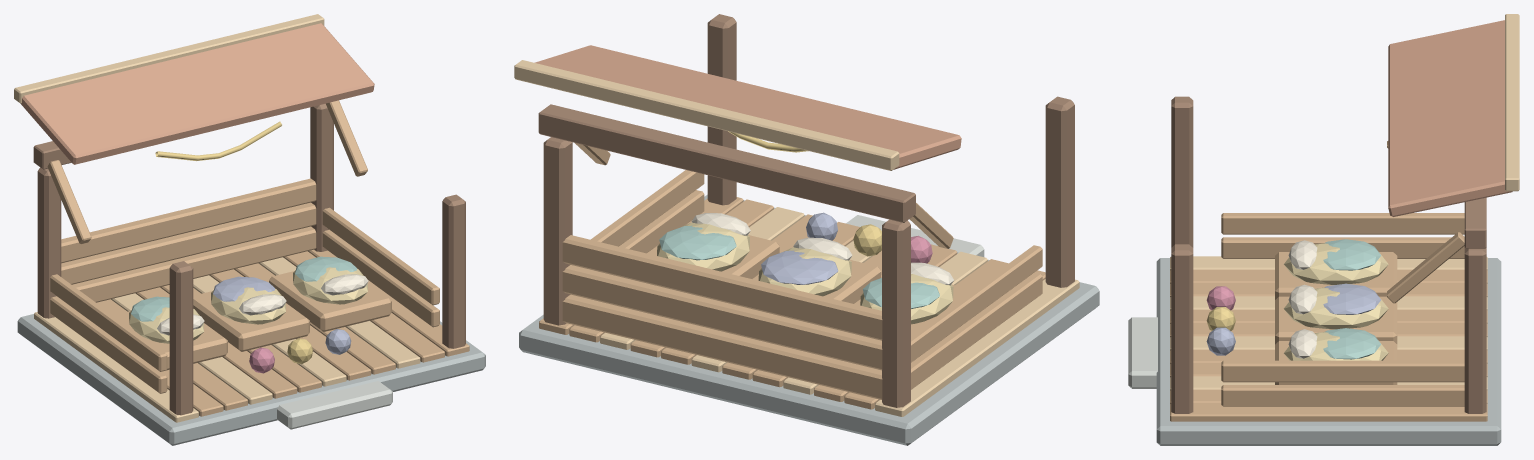
The model's file is nursery.fbx.
3 views of the same model, side by side, from view 1: azimuth 30°, elevation 25°; view 2: azimuth 150°, elevation 25°; view 3: azimuth 270°, elevation 25° (orthographic). The views are drawn at different scales.
Visible parts, largest first — view 1: nursery_mesh; view 2: nursery_mesh; view 3: nursery_mesh.
Boxes of the visible parts, bbox=[...] form: nursery_mesh: bbox=[14, 14, 485, 445]; nursery_mesh: bbox=[514, 14, 1099, 445]; nursery_mesh: bbox=[1128, 14, 1519, 445].
Size of the model in its own units: 3.32 by 2.4 by 3.2.
